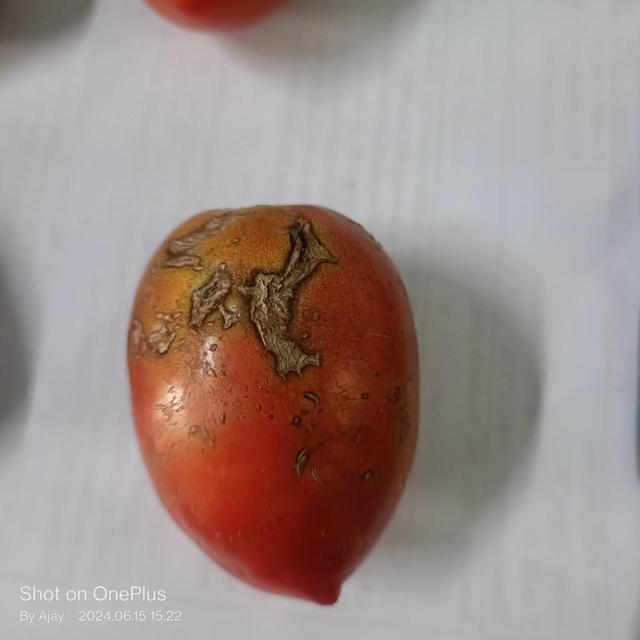Cracking Fruit: (120, 83, 275, 263)
